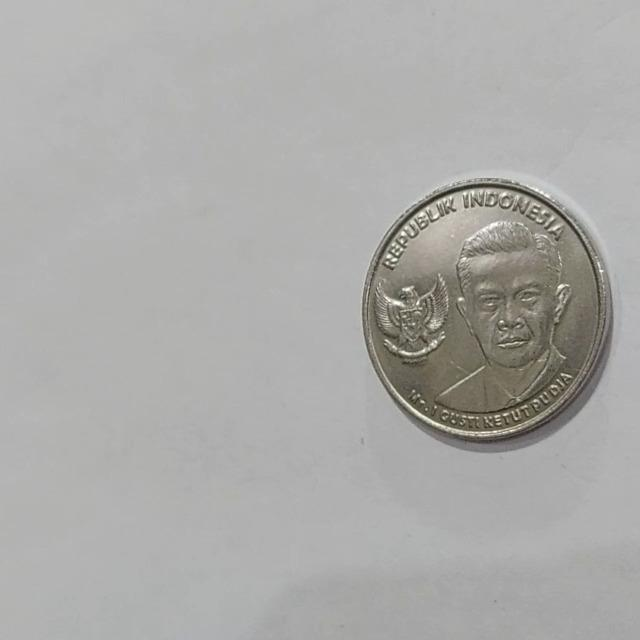Rp100: (362, 174, 612, 444), (430, 217, 576, 416)
